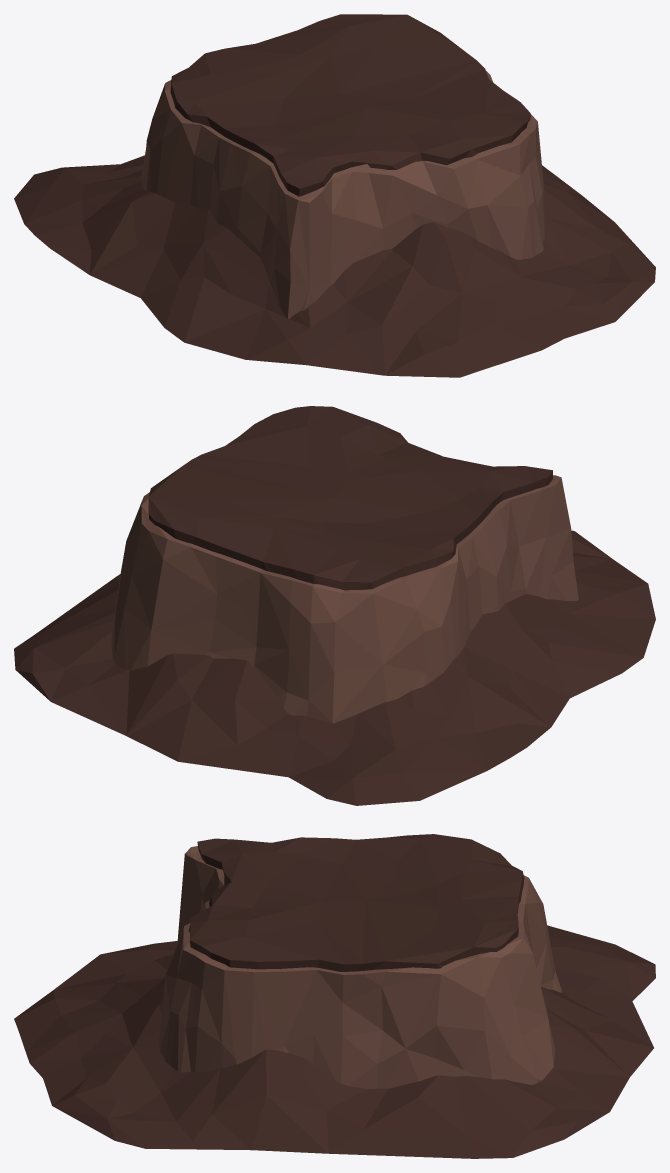
File: Brown_crag_004.fbx
3 renders of one model, top to bottom at view 1: azimuth 30°, elevation 25°; view 2: azimuth 150°, elevation 25°; view 3: azimuth 270°, elevation 25°, orthographic. The views are drawn at different scales.
Visible parts, largest first — view 1: Brown_crag_004; view 2: Brown_crag_004; view 3: Brown_crag_004.
Part boxes in pixels (left/top/right/bottom): Brown_crag_004: left=14, top=14, right=655, bottom=377; Brown_crag_004: left=14, top=406, right=655, bottom=805; Brown_crag_004: left=14, top=834, right=655, bottom=1158.
Bounding box in the file's own units: 6092 × 7178 × 2134.
